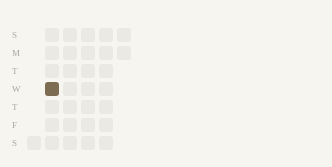
SpendHeatmap › reveals a tooltip with the day amount when a day is clicked
The image size is (332, 167).
Click the button named "Aug 5 · $10000". click: click(52, 89)
box: [44,82,58,96]
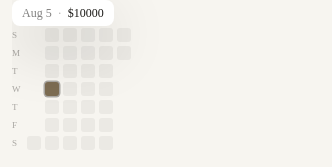
Check: the message with test id "heatmap-tooltip" shows "$10000", box [68,6,104,20]
